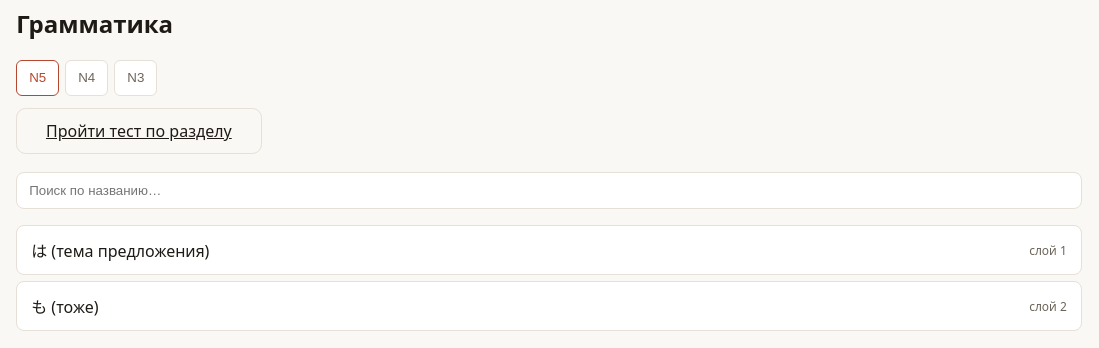
Test: GrammarListScreen › filters by search query
In the search field: (549, 191) [16,172,1082,209], type "тоже"
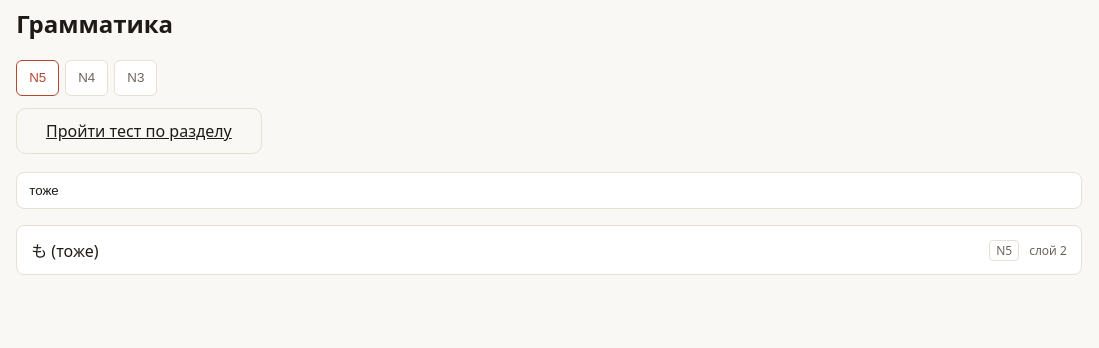
Result: the link "は (тема предложения)" is gone
